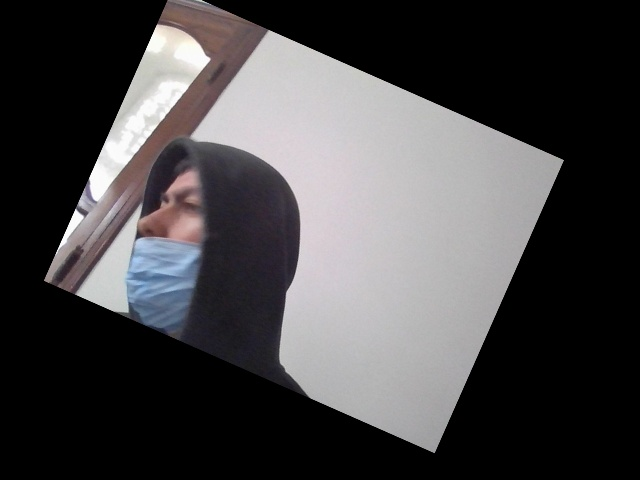mask_weared_incorrect: (120, 151, 225, 336)
